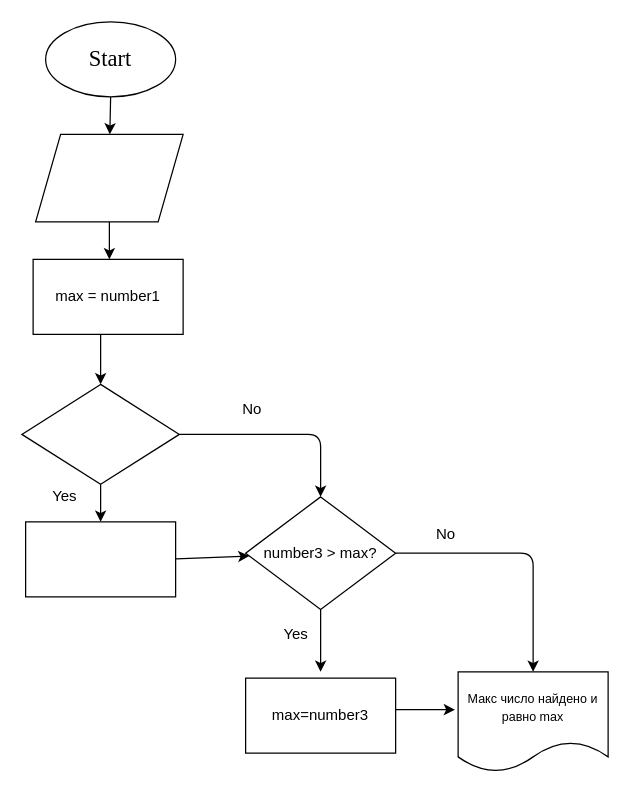
Image size: 630x794. Some labels were removed from this diagram. Here are the shapes that lost their labels. From the top down, the centre of each, then its label:
At point (108, 177): "number1 number2 number3".
At point (100, 433): "number2 > max ?".
At point (100, 559): "max = number2".
